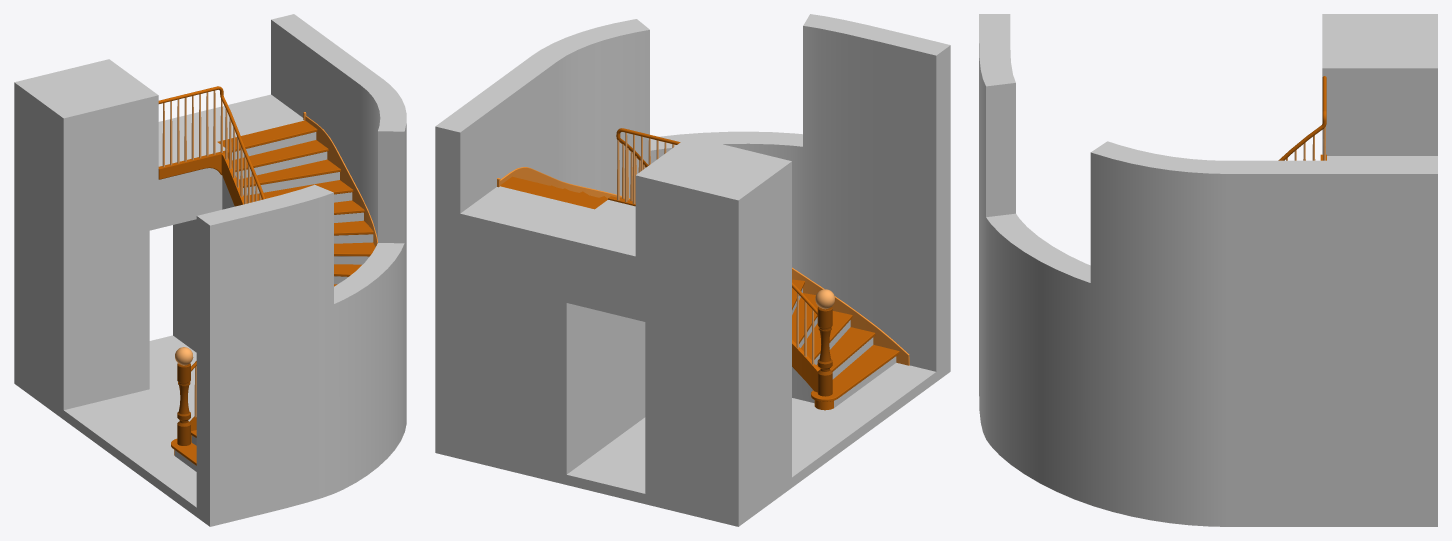
The model's file is 3D Сборка 1.obj.
The picture shows the model from 3 angles, left to right: view 1: azimuth 30°, elevation 25°; view 2: azimuth 150°, elevation 25°; view 3: azimuth 270°, elevation 25°; orthographic projection. The views are drawn at different scales.
Size of the model in its own units: 4.62 by 4.75 by 5.6.
